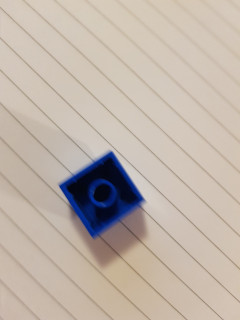2x2 blue: (55, 148, 148, 242)
